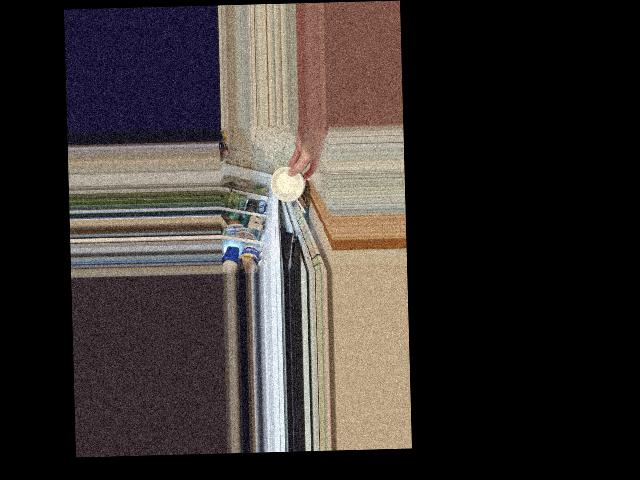cotage: (272, 165, 308, 200)
